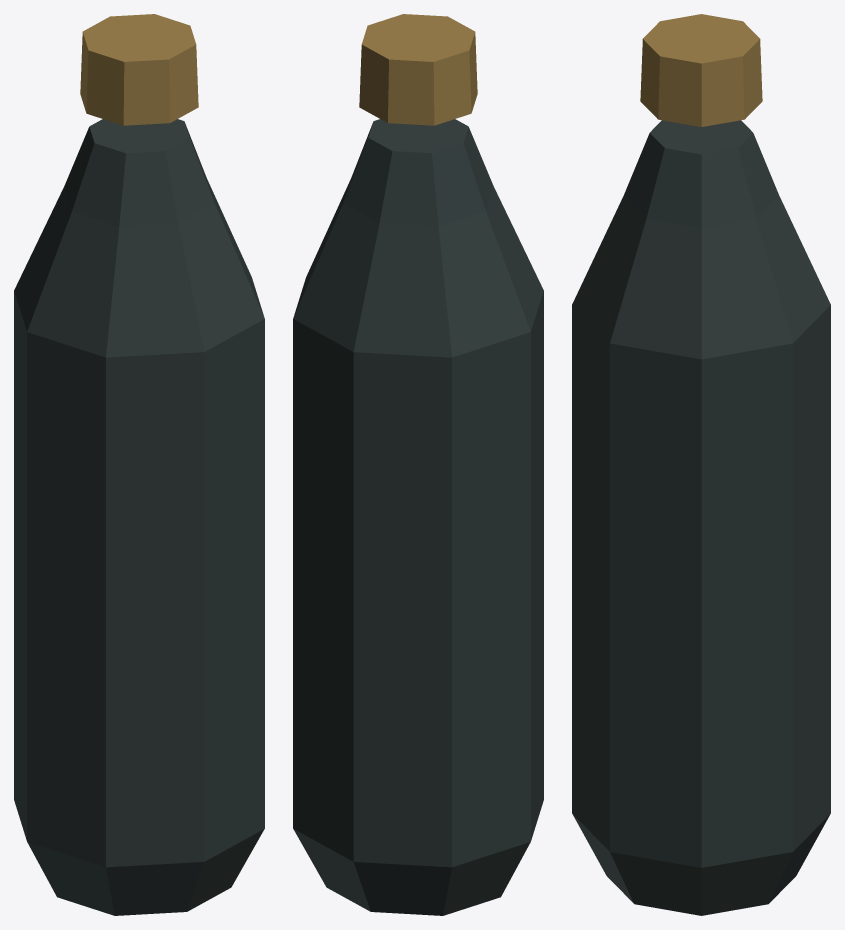
The model's file is ether.obj.
3 renders of one model, left to right at view 1: azimuth 30°, elevation 25°; view 2: azimuth 150°, elevation 25°; view 3: azimuth 270°, elevation 25°, orthographic.
Parts seen in each view (by area): view 1: ether; view 2: ether; view 3: ether.
Part boxes in pixels (box(x1,y1,x2,y2)): ether: box(14, 14, 264, 915); ether: box(293, 14, 543, 915); ether: box(572, 14, 830, 915).
Size of the model in its own units: 0.6 by 2.14 by 0.6.
